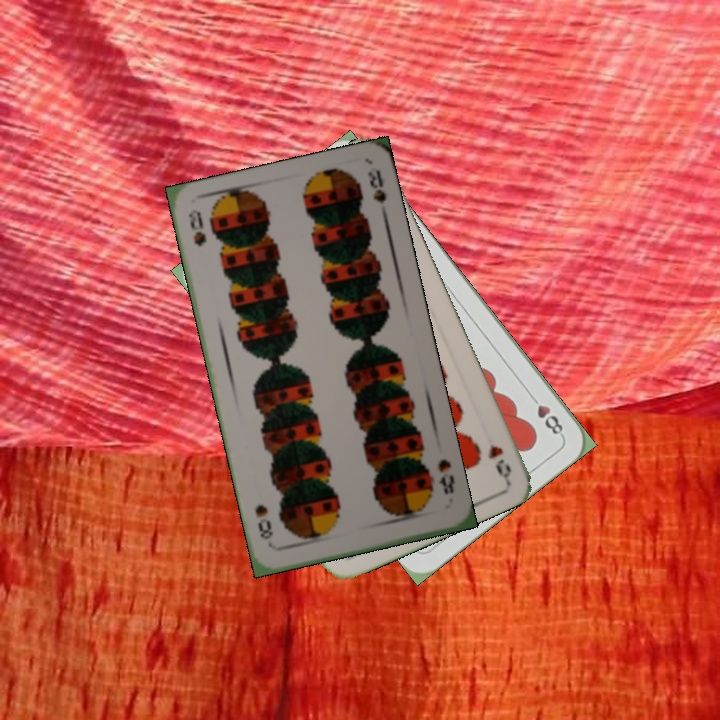H8: (524, 389, 566, 439)
H9: (484, 440, 514, 482)
S8: (184, 207, 209, 250), (434, 455, 458, 498)
